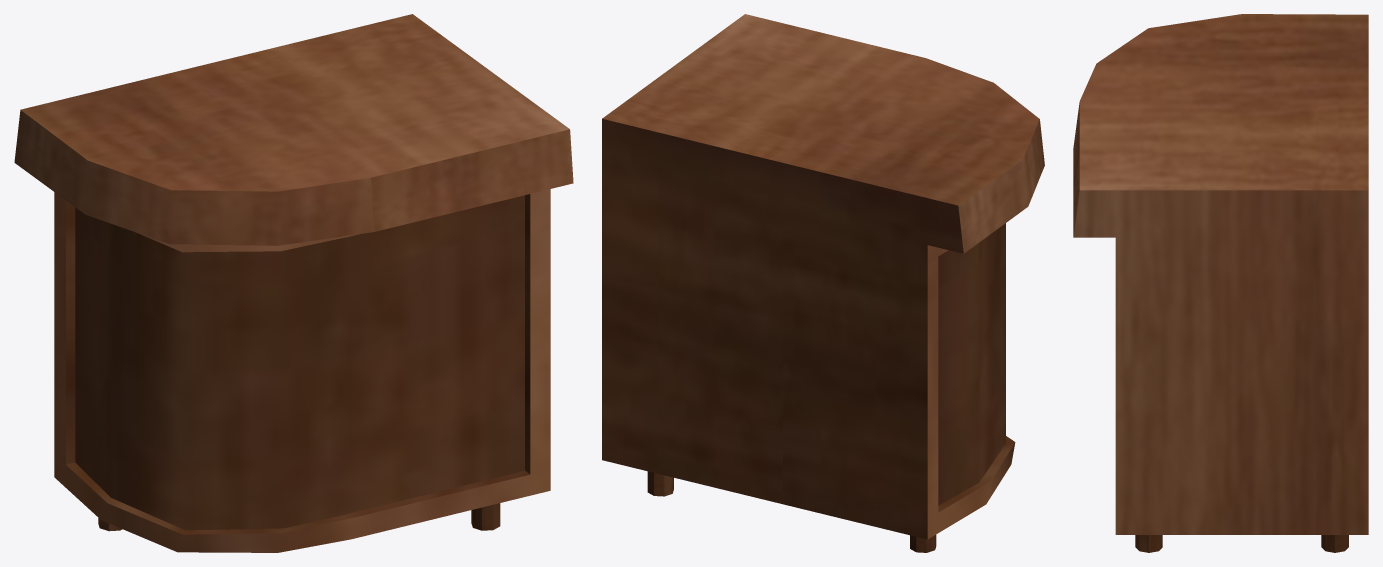
Rendered from PROP_balcao_quina.glb.
3 renders of one model, left to right at view 1: azimuth 30°, elevation 25°; view 2: azimuth 150°, elevation 25°; view 3: azimuth 270°, elevation 25°, orthographic. The views are drawn at different scales.
Visible parts, largest first — view 1: canto-balcao-esquerdo; view 2: canto-balcao-esquerdo; view 3: canto-balcao-esquerdo.
Boxes of the visible parts, x1=… form: canto-balcao-esquerdo: x1=14, y1=14, x2=573, y2=552; canto-balcao-esquerdo: x1=602, y1=14, x2=1044, y2=552; canto-balcao-esquerdo: x1=1073, y1=14, x2=1368, y2=552.
Size of the model in its own units: 1.11 by 1.1 by 0.7782.
Materials: 1 (1 with a texture image).
